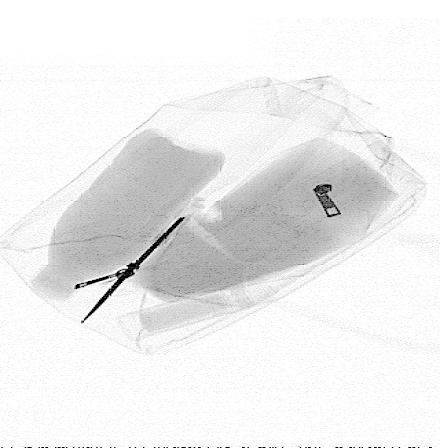Scissors: (79, 196, 207, 326)
